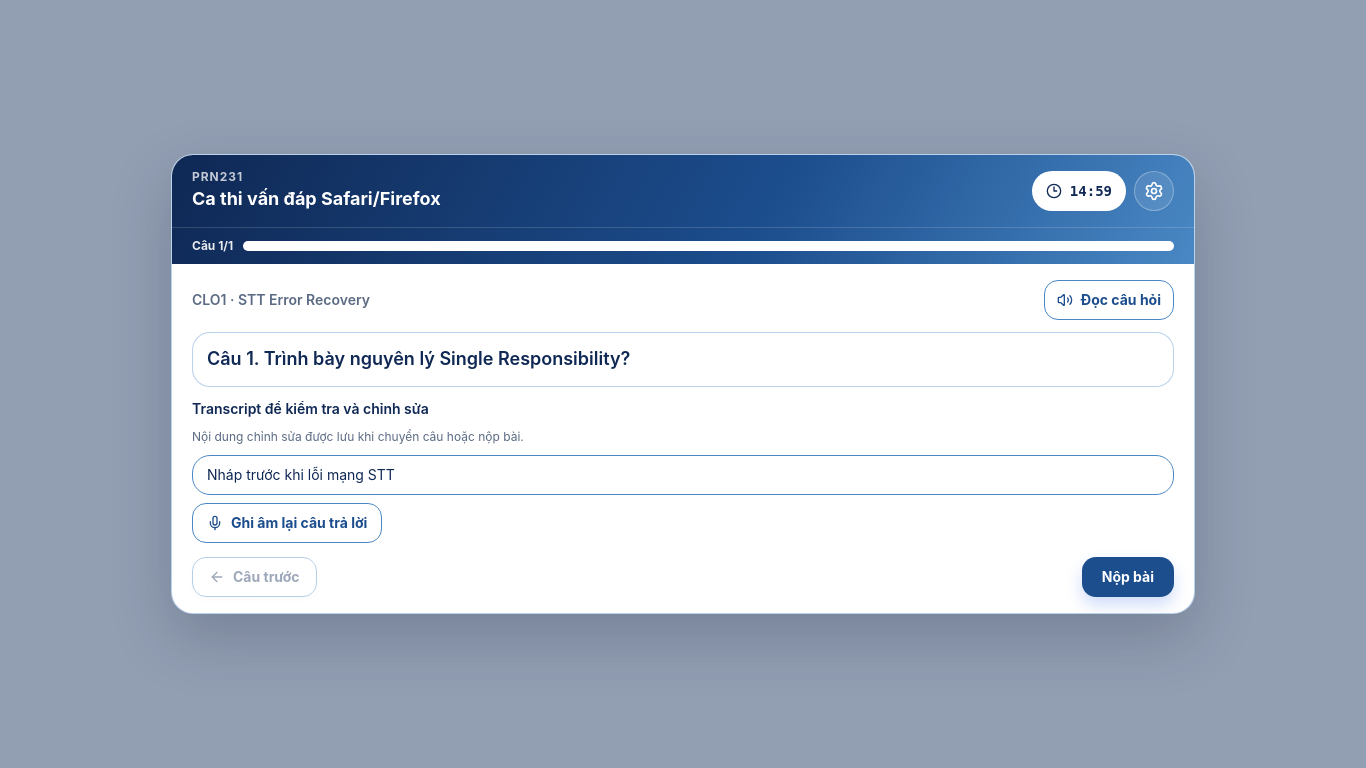
Test: InClassExamSessionPage M2 cross-device fallback & question images › unlocks textarea immediately after STT HTTP error during re-record while preserving draft
The width and height of the screenshot is (1366, 768).
Click the button "Ghi âm lại câu trả lời": (287,523) [192, 503, 382, 543]
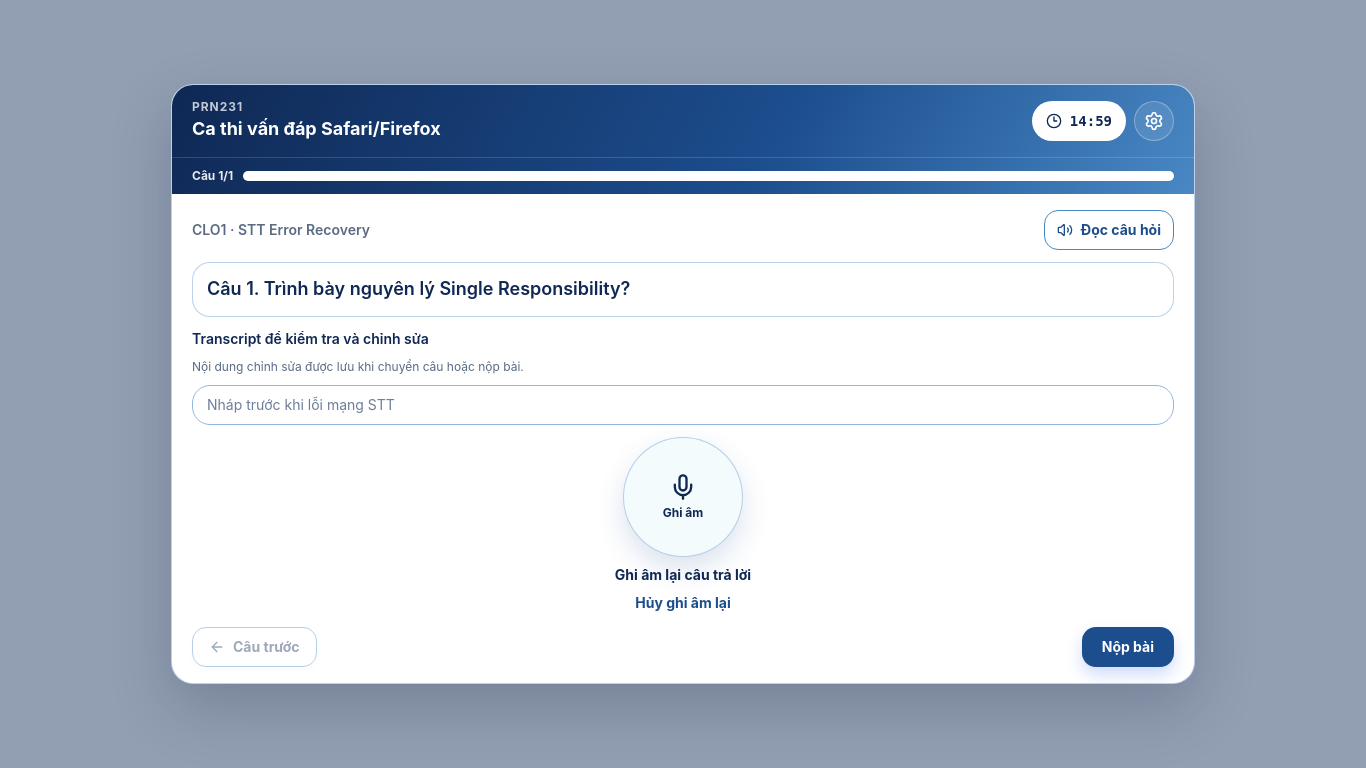
Click the button with aria-label "Bắt đầu ghi âm": (683,497) [623, 437, 743, 557]
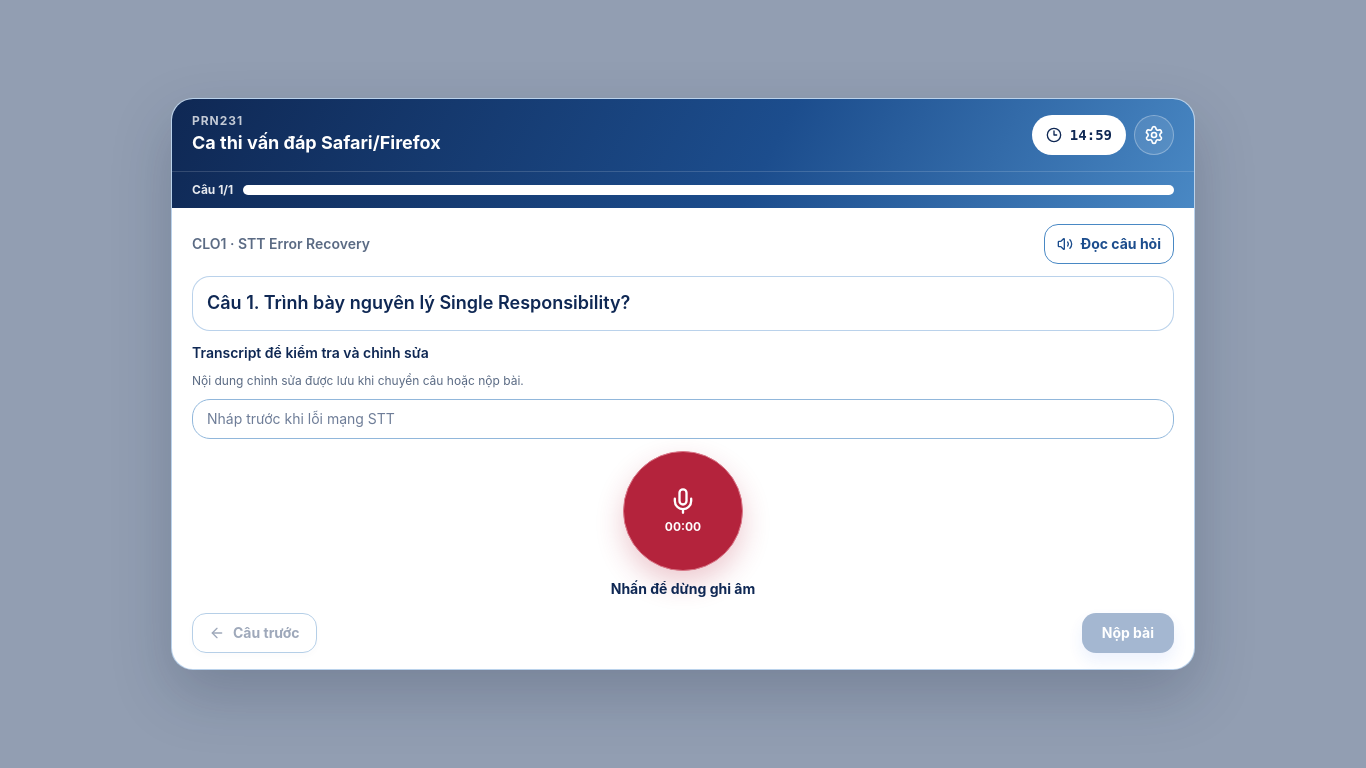
Click the button named "Dừng ghi âm": (683,511) [623, 451, 743, 571]
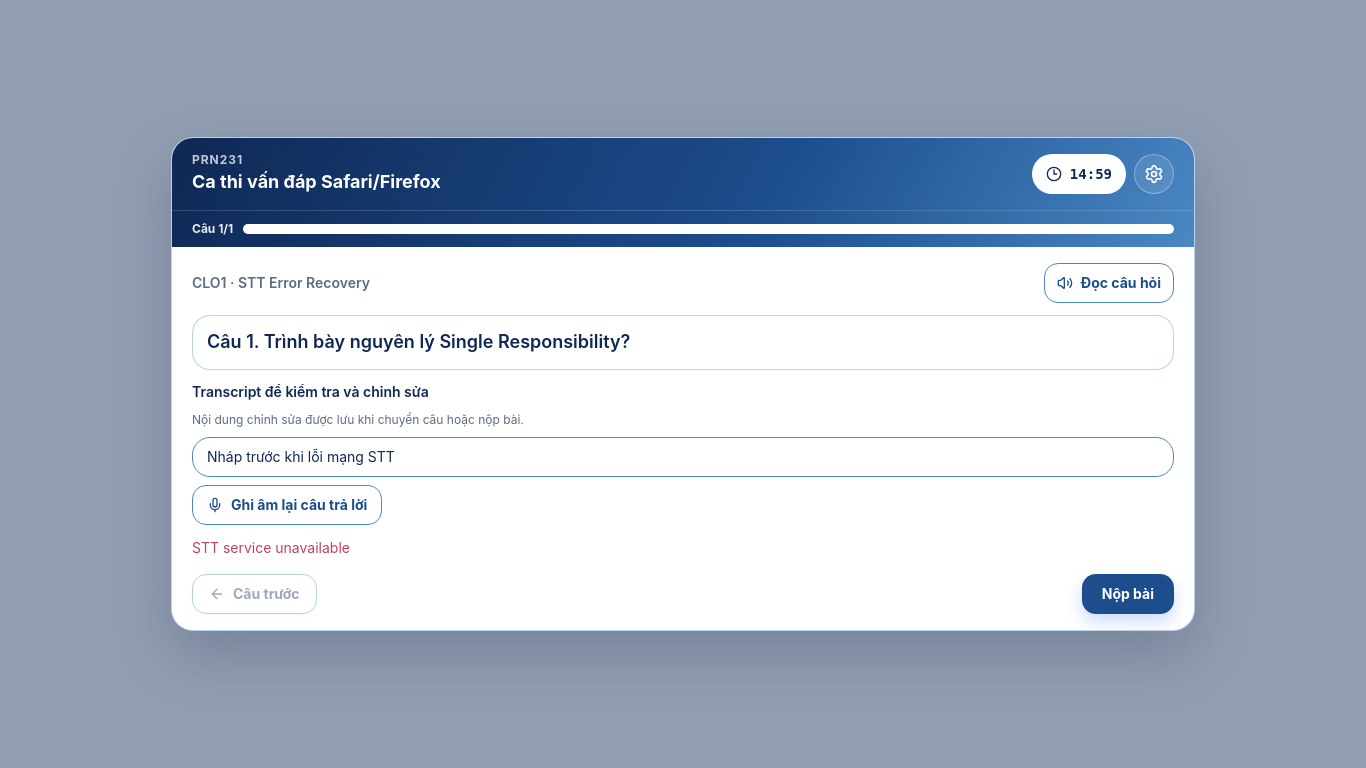
Expected: the text box labelled "Transcript để kiểm tra và chỉnh sửa" holds "Nháp trước khi lỗi mạng STT", [192, 437, 1174, 477]
Expected: the text "STT service unavailable" is shown, [192, 539, 350, 556]
Expected: the text box labelled "Transcript để kiểm tra và chỉnh sửa" is enabled, [192, 437, 1174, 477]
